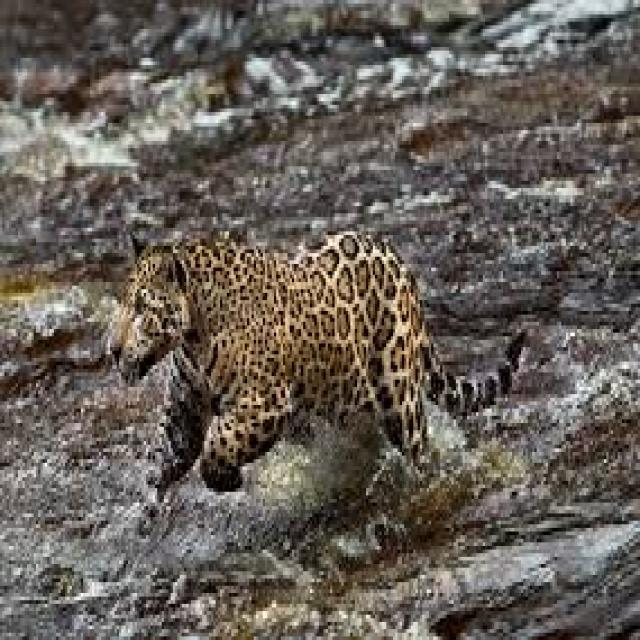Jaguar: (135, 250, 438, 430)
